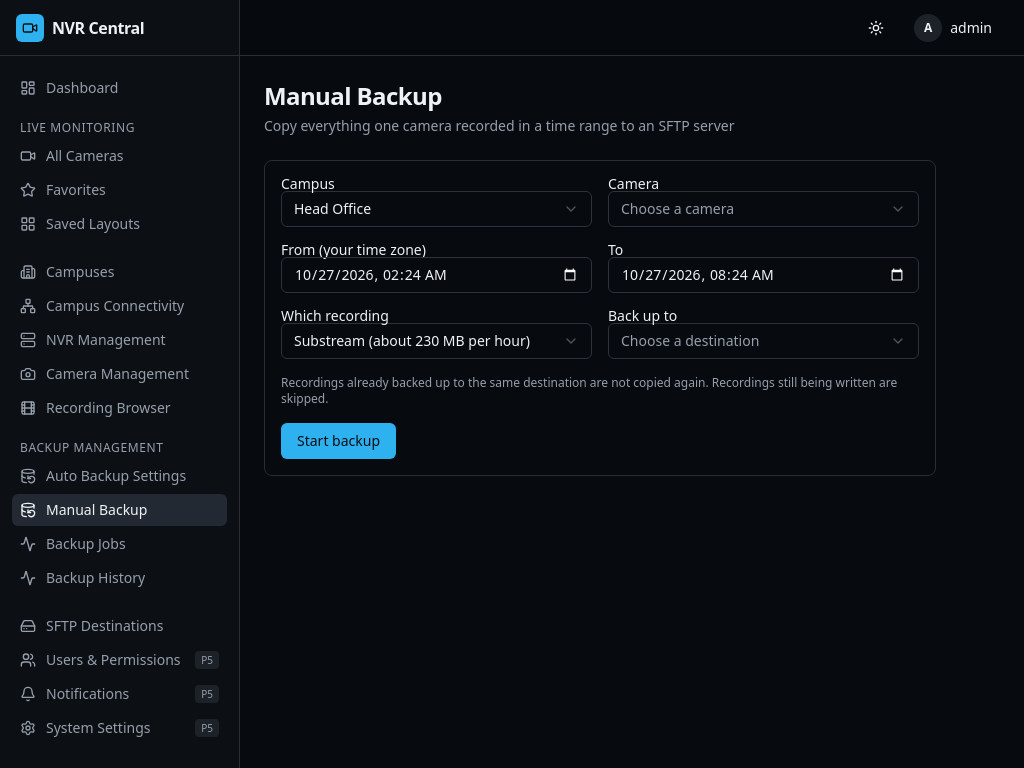
Test: backup pages › manual backup validates the form before sending anything
Click the button "Start backup" at (338, 441), box [281,423,396,459]
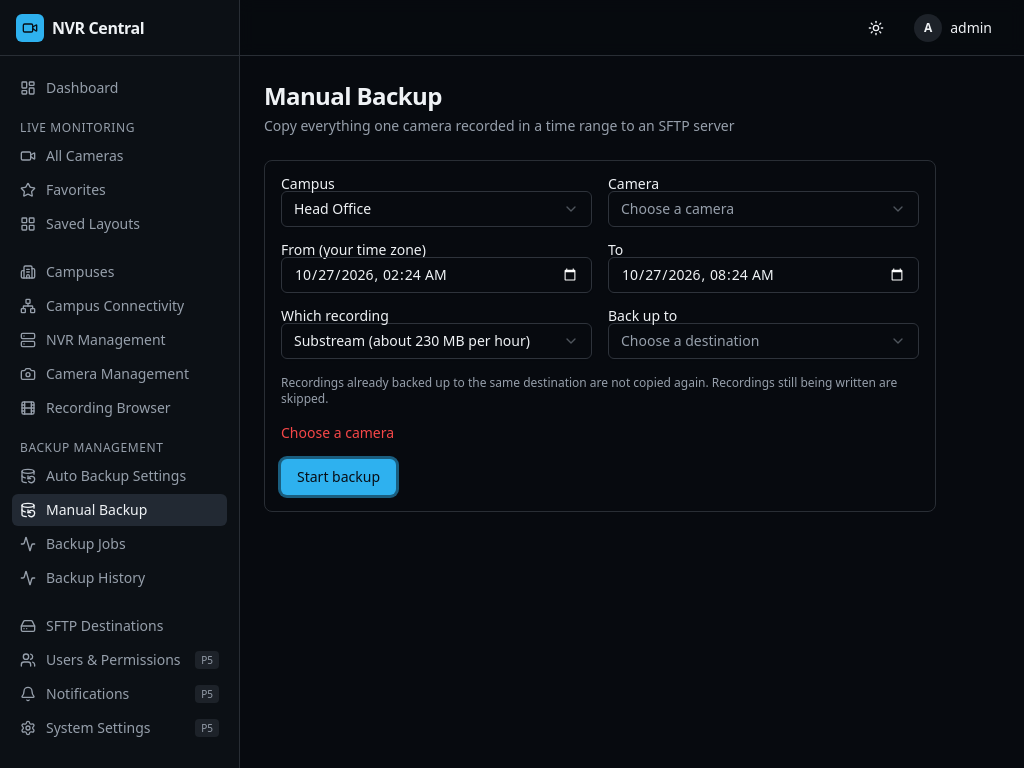
Now the message reads "Choose a camera", box [281,423,394,442]
